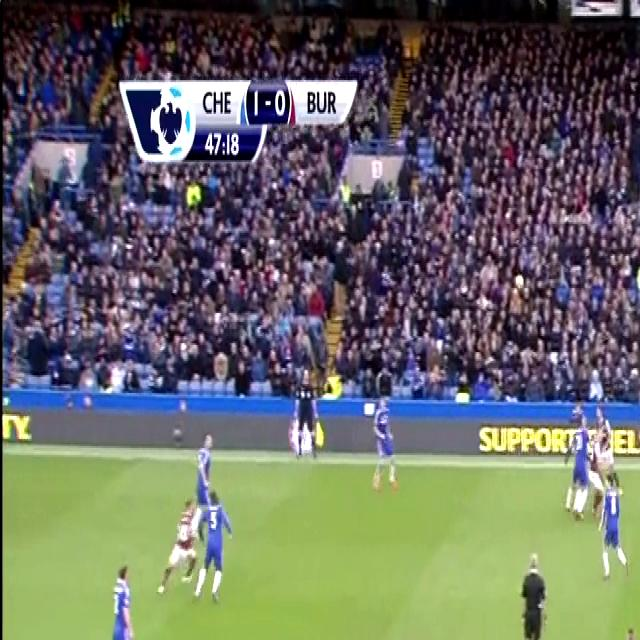referee: (511, 537, 554, 640), (291, 362, 330, 467)
soccer-player: (364, 390, 406, 502), (594, 466, 632, 585), (193, 488, 230, 610), (155, 494, 195, 606), (102, 551, 142, 640), (567, 414, 597, 522), (188, 424, 218, 526), (612, 613, 640, 640)
